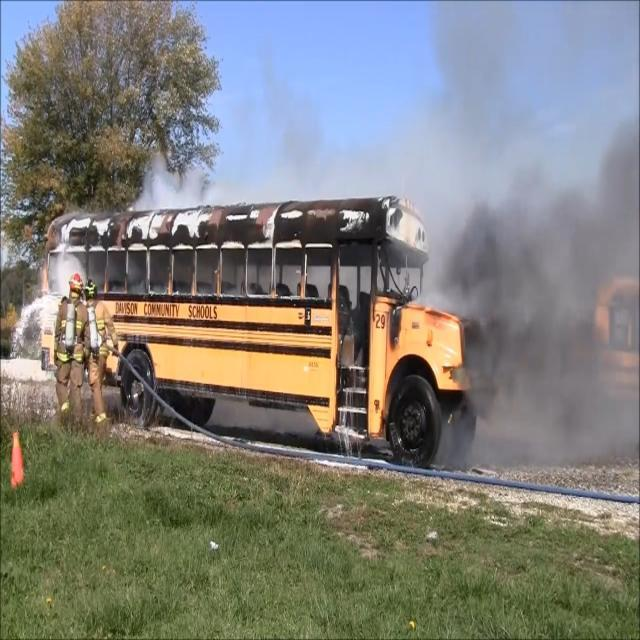Smoke: (468, 202, 620, 404)
